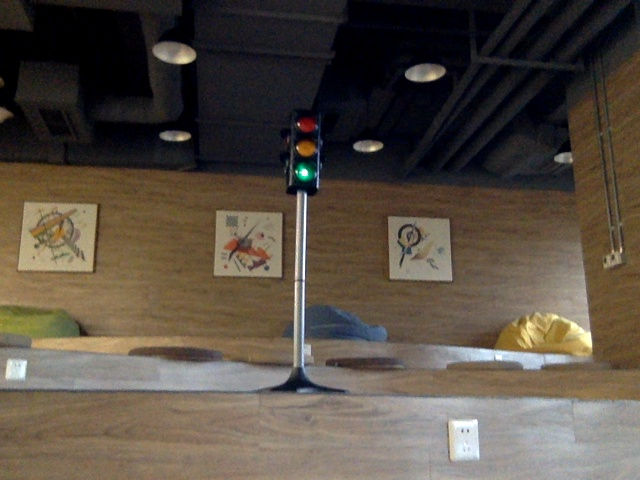green: (289, 116, 316, 186)
